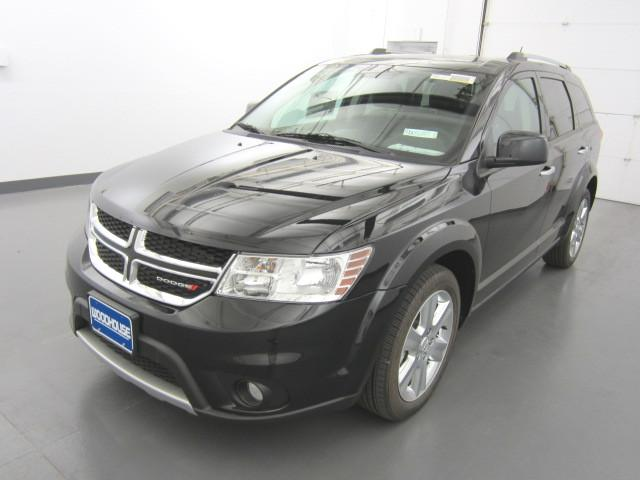dodge: (152, 269, 201, 295)
